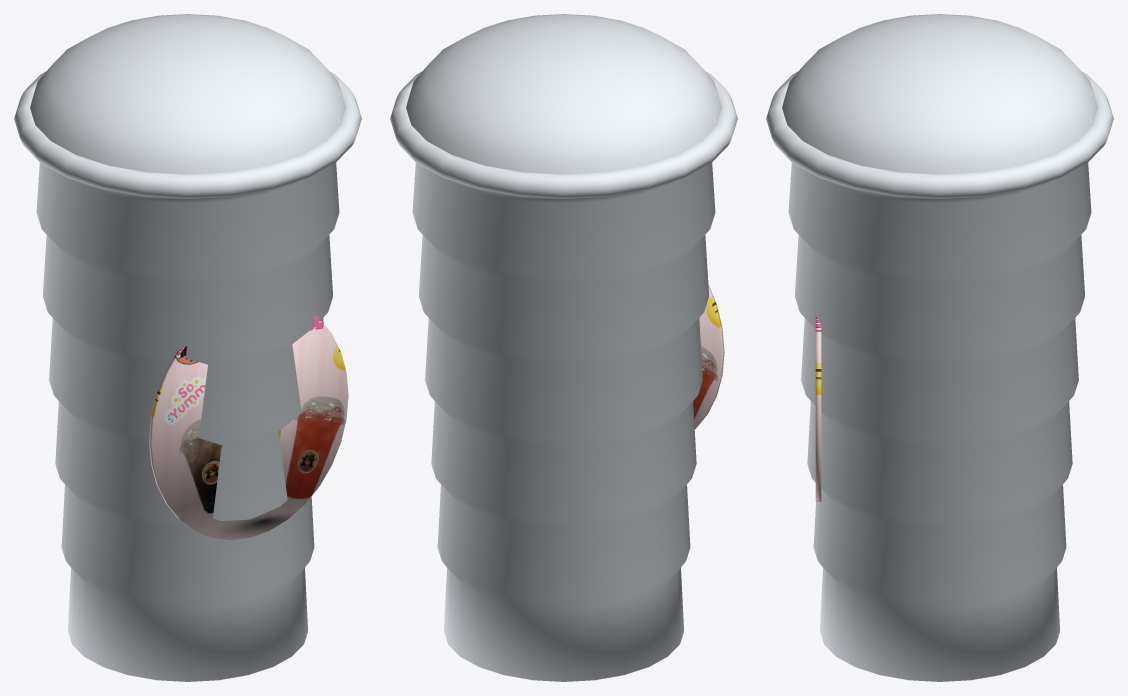
The model's file is prop_lemonade.glb.
The picture shows the model from 3 angles, left to right: view 1: azimuth 30°, elevation 25°; view 2: azimuth 150°, elevation 25°; view 3: azimuth 270°, elevation 25°; orthographic projection.
Visible parts, largest first — view 1: prop_lemonade; view 2: prop_lemonade; view 3: prop_lemonade.
Boxes of the visible parts, x1,y1,x2,y2 form: prop_lemonade: (14,14,361,681); prop_lemonade: (390,14,737,681); prop_lemonade: (766,14,1113,681).
Bounding box in the file's own units: 0.0927 × 0.1742 × 0.0927.
Materials: 4 (1 with a texture image).
